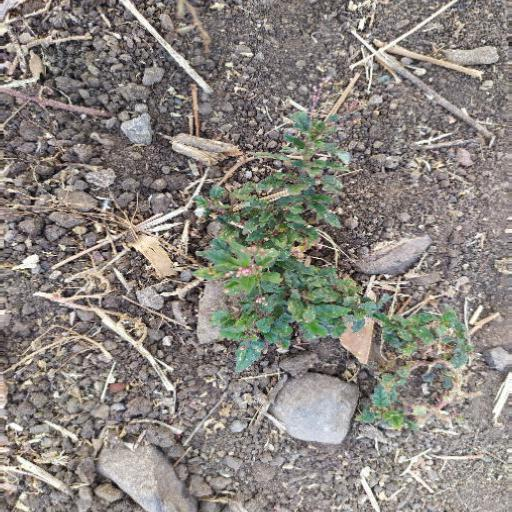weed: (212, 105, 459, 418)
